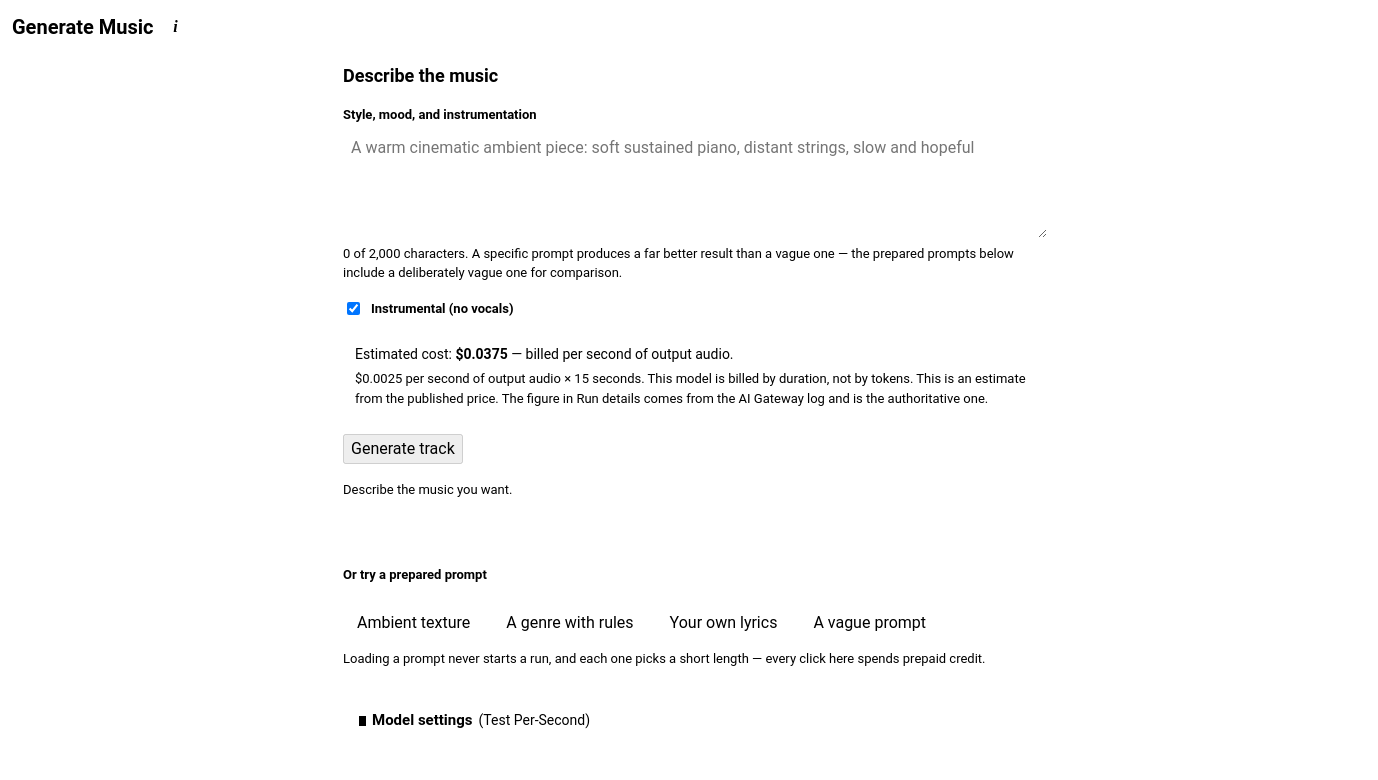
Test case: the credit failure › renders its own notice with a link, not a generic error
The image size is (1378, 780).
Replace the text in the text box with id "music-prompt" with "ambient piano" at point(695, 184), box [343, 130, 1047, 238]
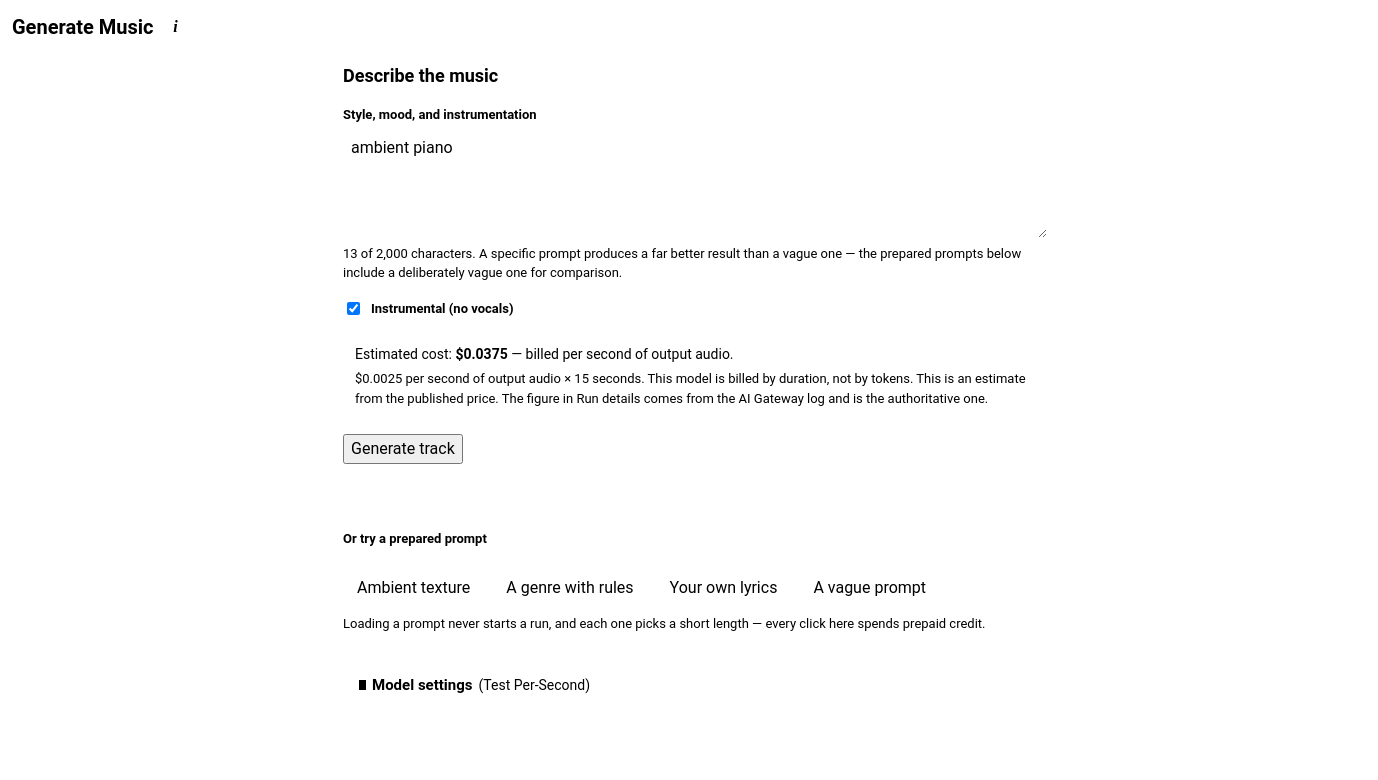
Click the button with class "generate-button" at point(403, 449), box [343, 434, 463, 464]
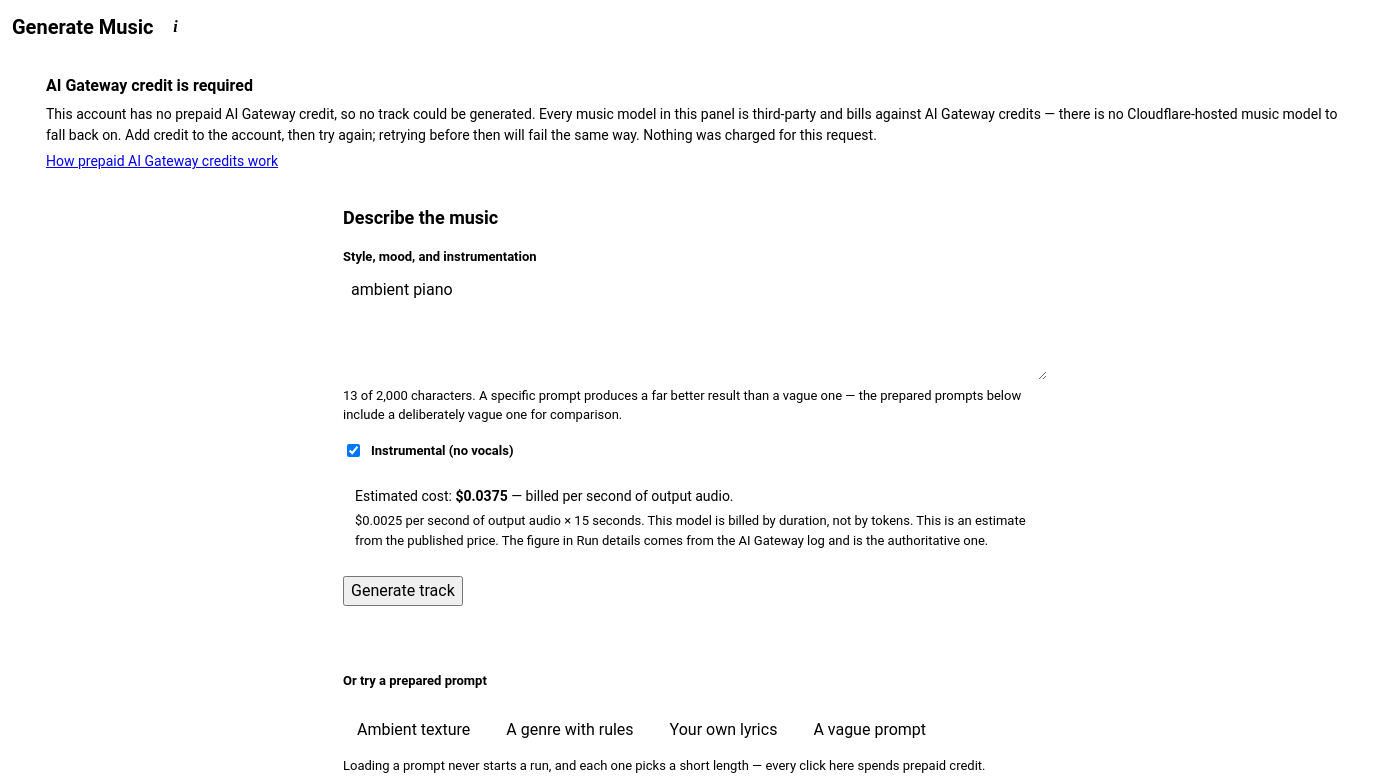
Check: the message with class "credit-notice" is shown, box [32, 62, 1358, 184]
Check: the message with class "credit-notice" shows "add credit", box [46, 106, 1338, 143]
Check: the message with class "credit-notice" shows "nothing was charged", box [46, 106, 1338, 143]
